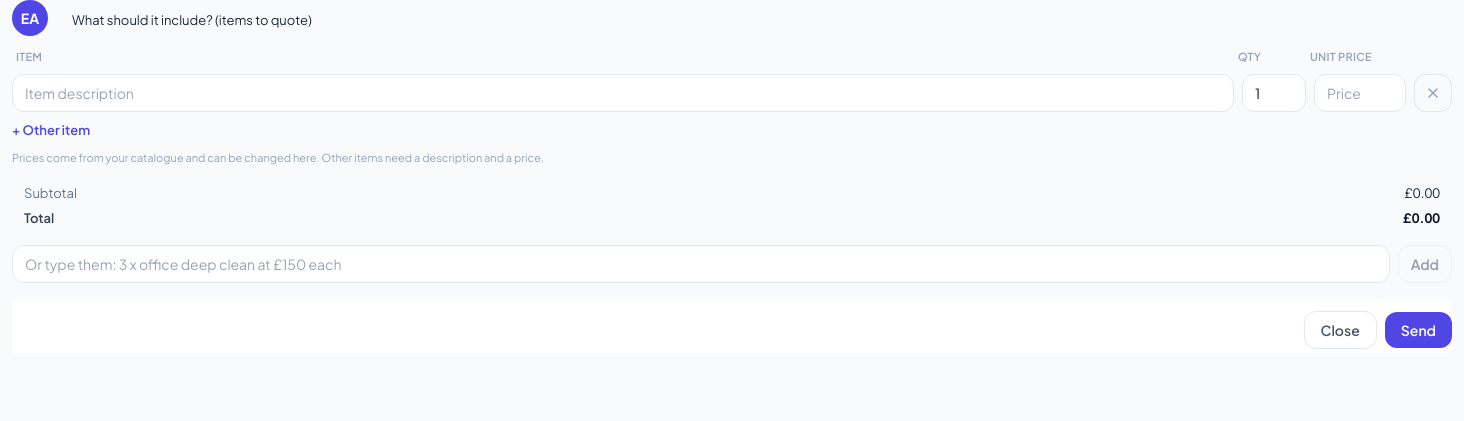
Test: A few details: items › says what is wrong instead of sending an unusable answer
Type "logo design" into the field named "Or type the items". click: (701, 264)
box: [12,245,1390,283]
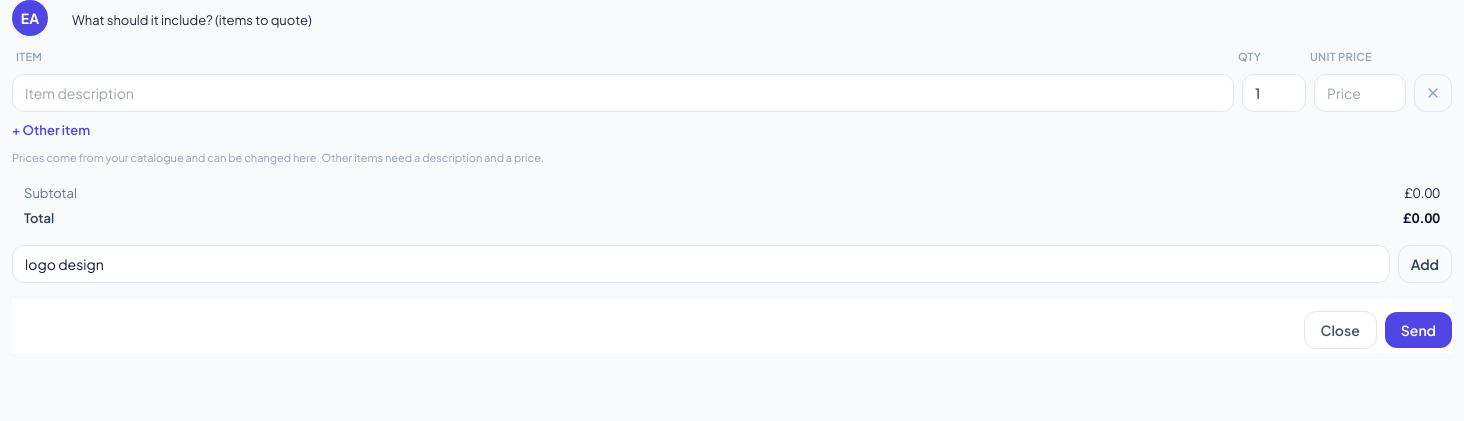
Click the button "Add". click: click(1425, 264)
box: [1398,245,1452,283]
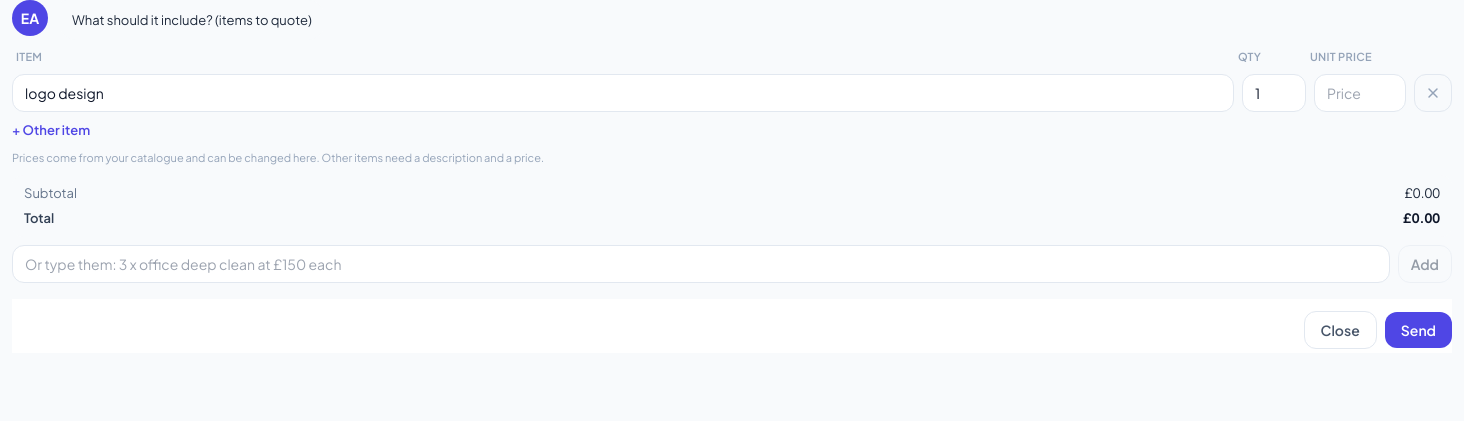
Click the button "Send". click: click(1418, 330)
box: [1385,312,1452,348]
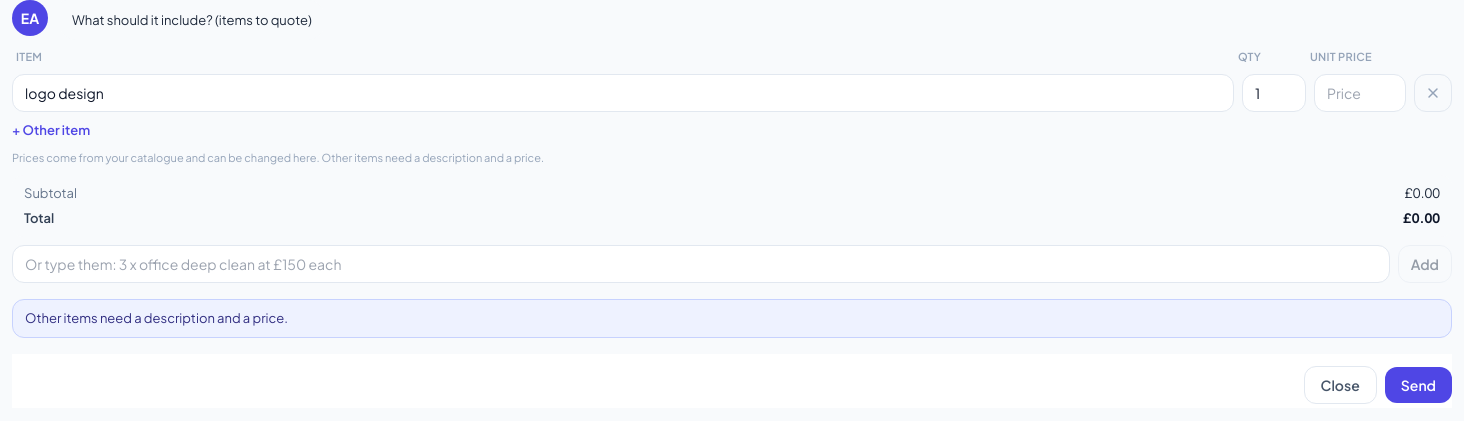
Expected: the text "Other items need a description and a price." is shown, [12,299,1452,338]
